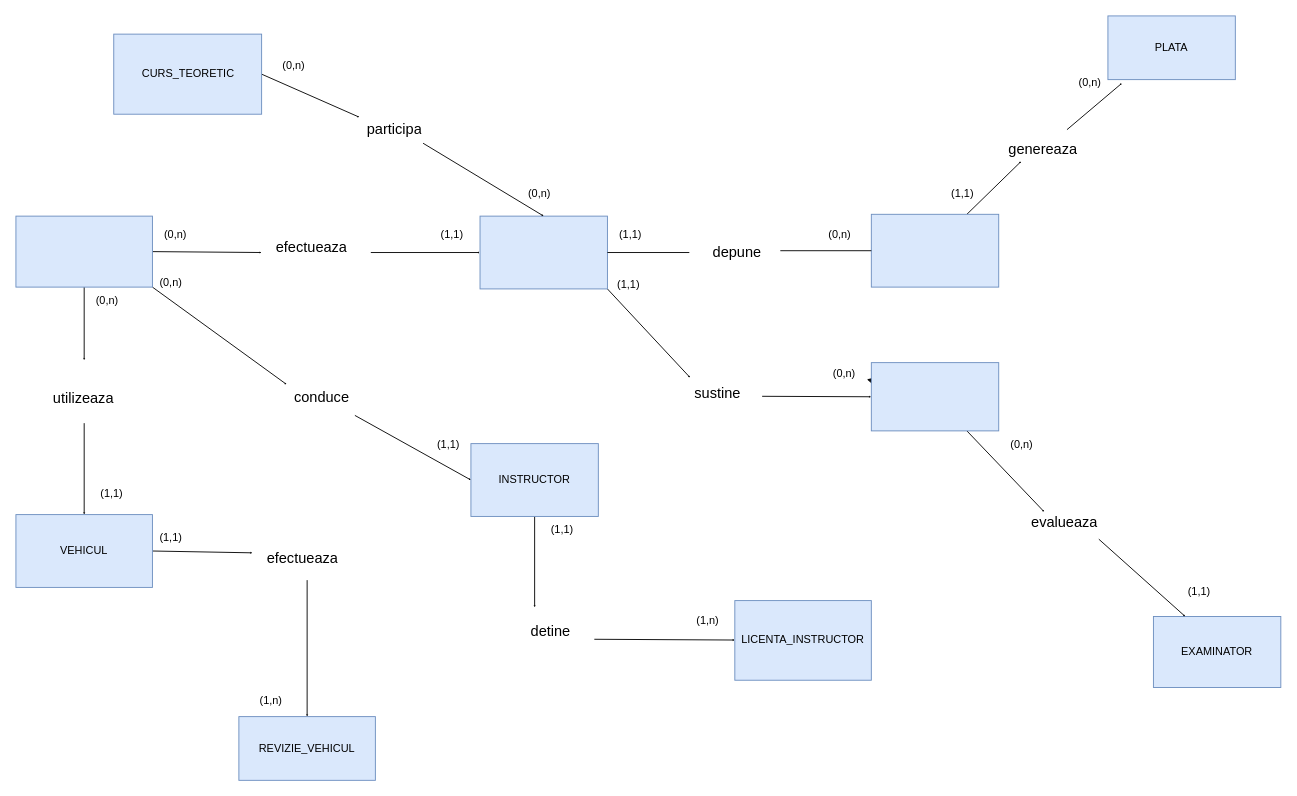
Some shapes in this 1297 by 796 pixel diagram are drawn without their labels. The centre of each missing label's shape, as x and y in pixels:
DOSAR_INSCRIERE: point (934, 250)
ELEV: point (543, 252)
EXAMEN: point (934, 396)
SEDINTA_PRACTICA: point (83, 251)
